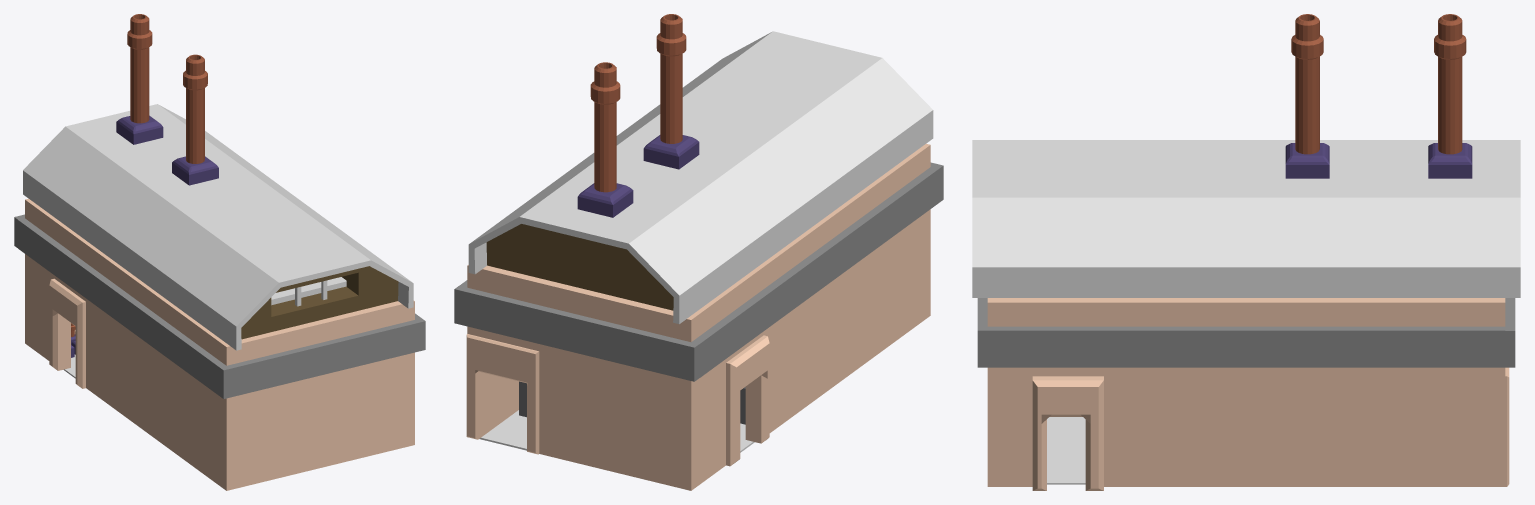
Rendered from Assembly_Area.fbx.
3 views of the same model, side by side, from view 1: azimuth 30°, elevation 25°; view 2: azimuth 150°, elevation 25°; view 3: azimuth 270°, elevation 25° (orthographic). The views are drawn at different scales.
Parts seen in each view (by area): view 1: Building_Shell, RoofPlating, Roof_SidePanels, ExhaustTower, RoofPanels_Inner, Board2; view 2: Building_Shell, RoofPlating, Roof_SidePanels, ExhaustTower, RoofPanels_Inner, Floor; view 3: RoofPlating, Building_Shell, Roof_SidePanels, ExhaustTower, Floor.
Boxes of the visible parts, x1,y1,x2,y2 form: Building_Shell: (25,198,414,490); RoofPlating: (23,104,413,350); Roof_SidePanels: (14,214,425,398); ExhaustTower: (116,14,218,185); RoofPanels_Inner: (241,266,398,339); Board2: (271,277,346,305); Building_Shell: (466,143,930,490); RoofPlating: (468,31,933,324); Roof_SidePanels: (454,162,943,381); ExhaustTower: (577,14,699,217); RoofPanels_Inner: (486,224,673,310); Floor: (479,410,754,452); RoofPlating: (972,140,1520,297); Building_Shell: (987,298,1509,490); Roof_SidePanels: (977,298,1515,367); ExhaustTower: (1285,14,1472,178); Floor: (1047,417,1085,484).
Size of the model in its own units: 1490 by 2230 by 2691.
